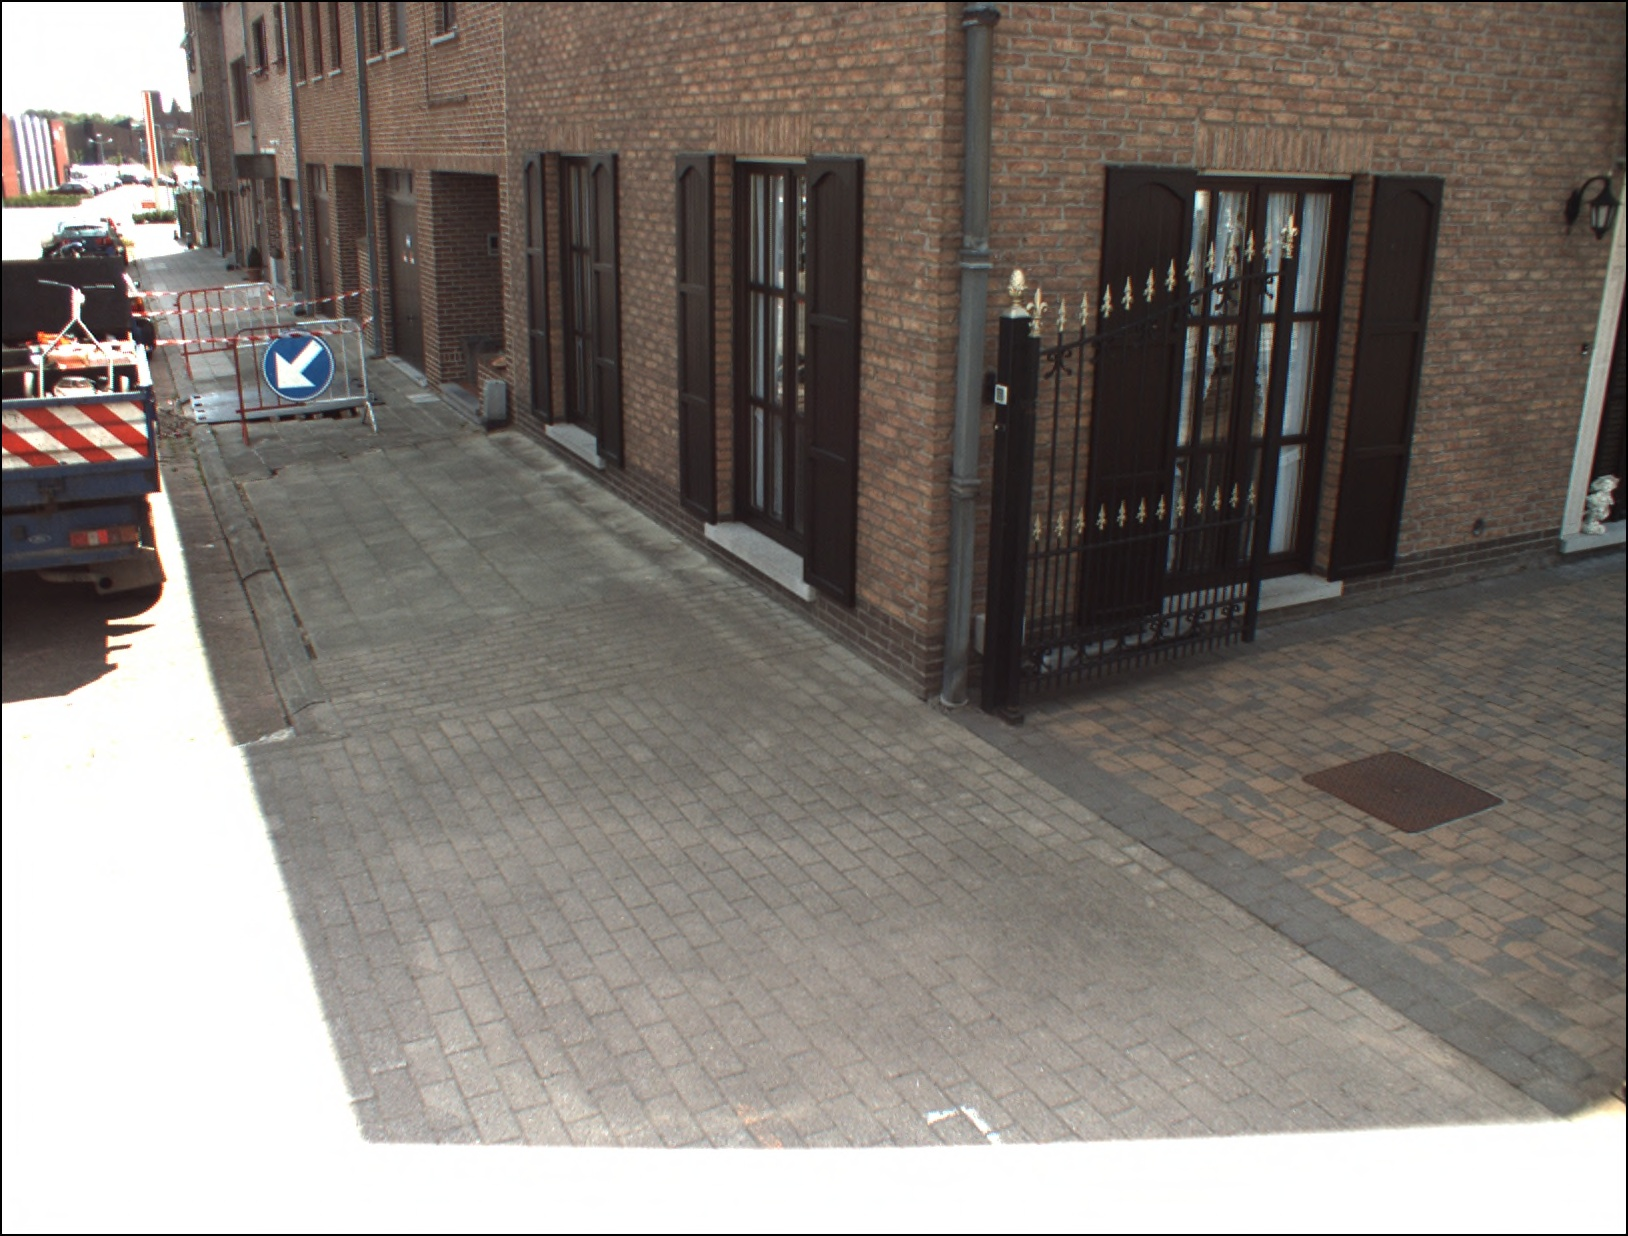passleft: (264, 332, 332, 401)
